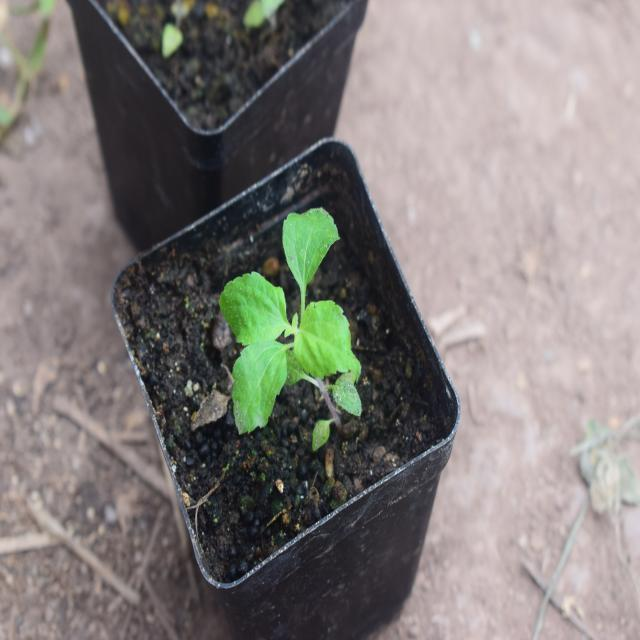billygoat_weed: (212, 220, 364, 424)
